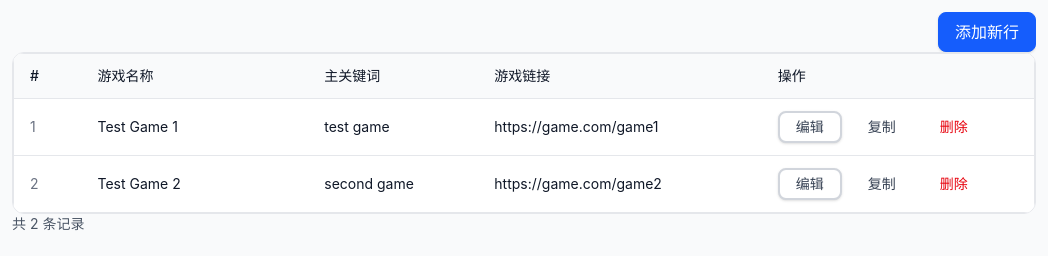
Test: EditableTable组件 › 应该进入编辑模式
Click the button "编辑" in the row of "Test Game 1".
click(810, 127)  # box [778, 111, 842, 143]
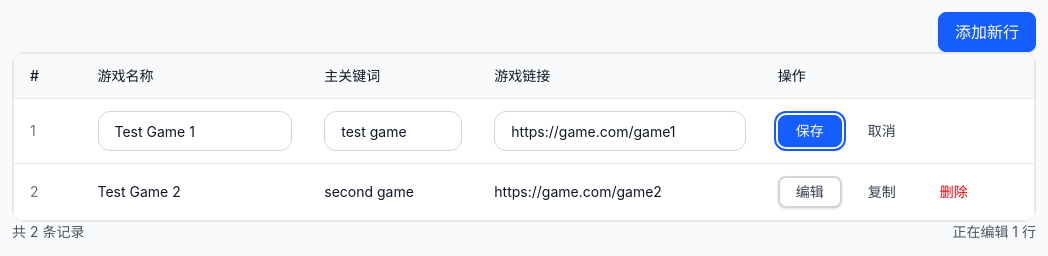
Expected: the text "保存" is shown, [796, 121, 824, 141]
Expected: the text "取消" is shown, [868, 121, 896, 141]
Expected: the 1st field is shown, [98, 111, 292, 151]
